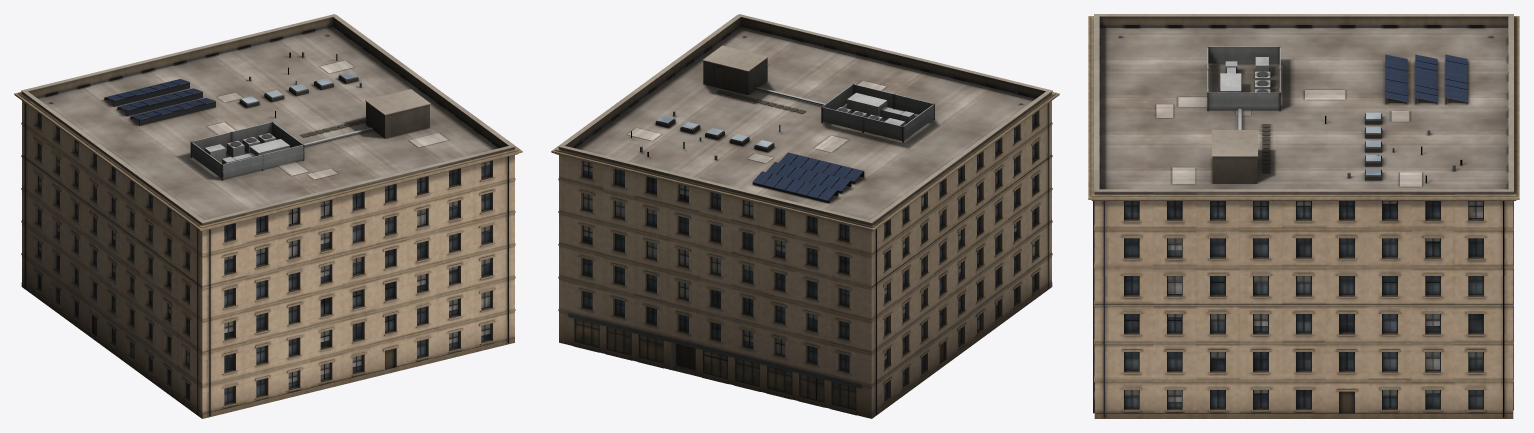
3 renders of one model, left to right at view 1: azimuth 30°, elevation 25°; view 2: azimuth 150°, elevation 25°; view 3: azimuth 270°, elevation 25°, orthographic. The views are drawn at different scales.
Parts seen in each view (by area): view 1: building; view 2: building; view 3: building.
Part boxes in pixels (<box>): building: <box>14,14,522,418</box>; building: <box>551,14,1059,418</box>; building: <box>1088,14,1519,418</box>.
Bounding box in the file's own units: 33 × 20.58 × 33.
Materials: 1 (1 with a texture image).
